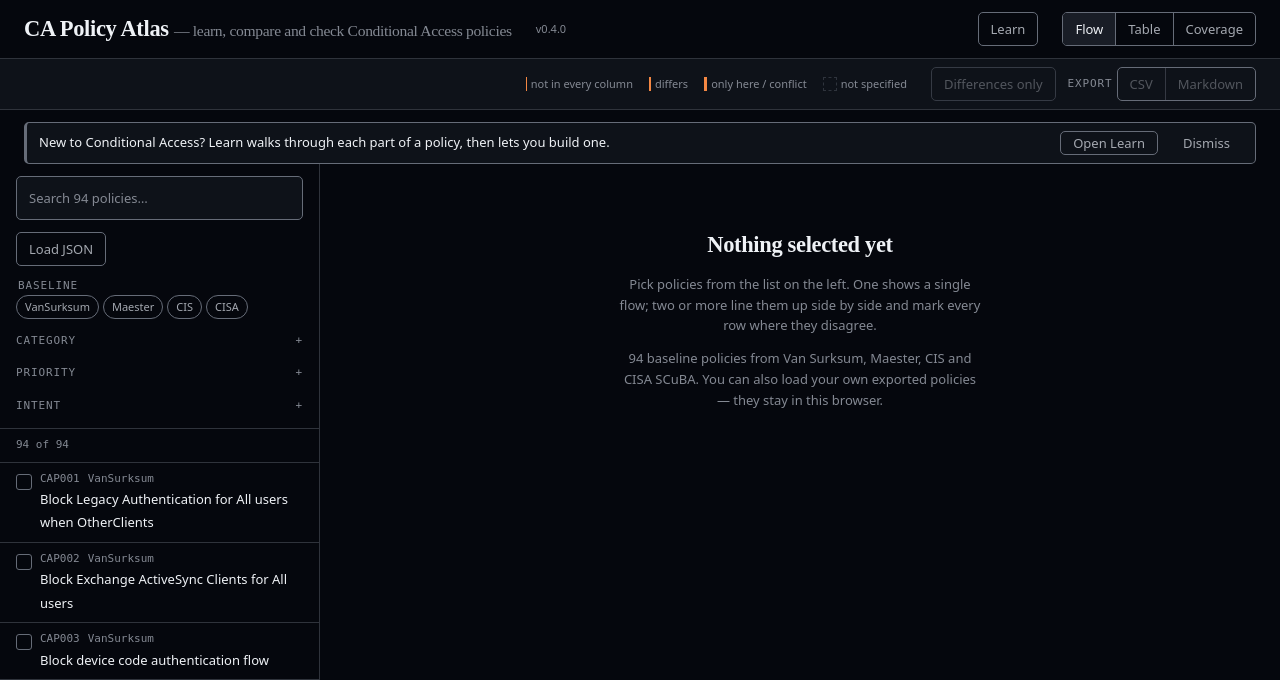
Test: learn intro › counts opening Learn from the header as seen
Click the button "Learn". click: (1008, 29)
box: [978, 12, 1038, 46]
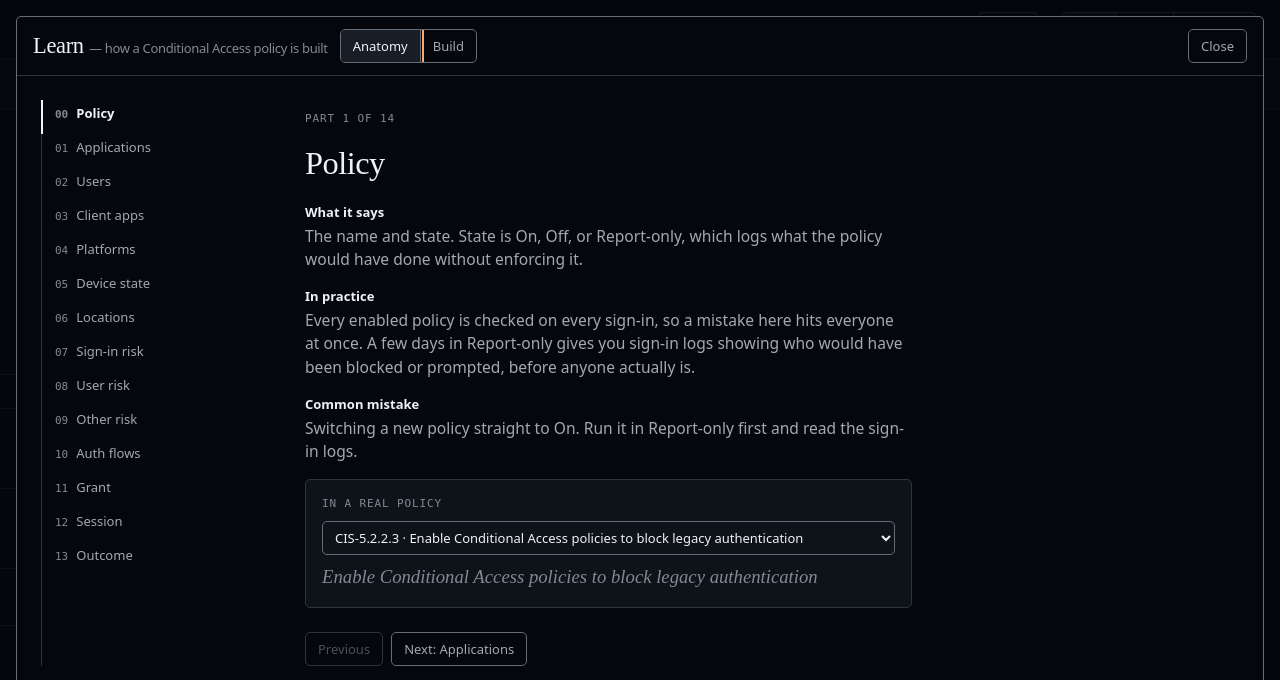
Now the message with class "notice-intro" is gone
